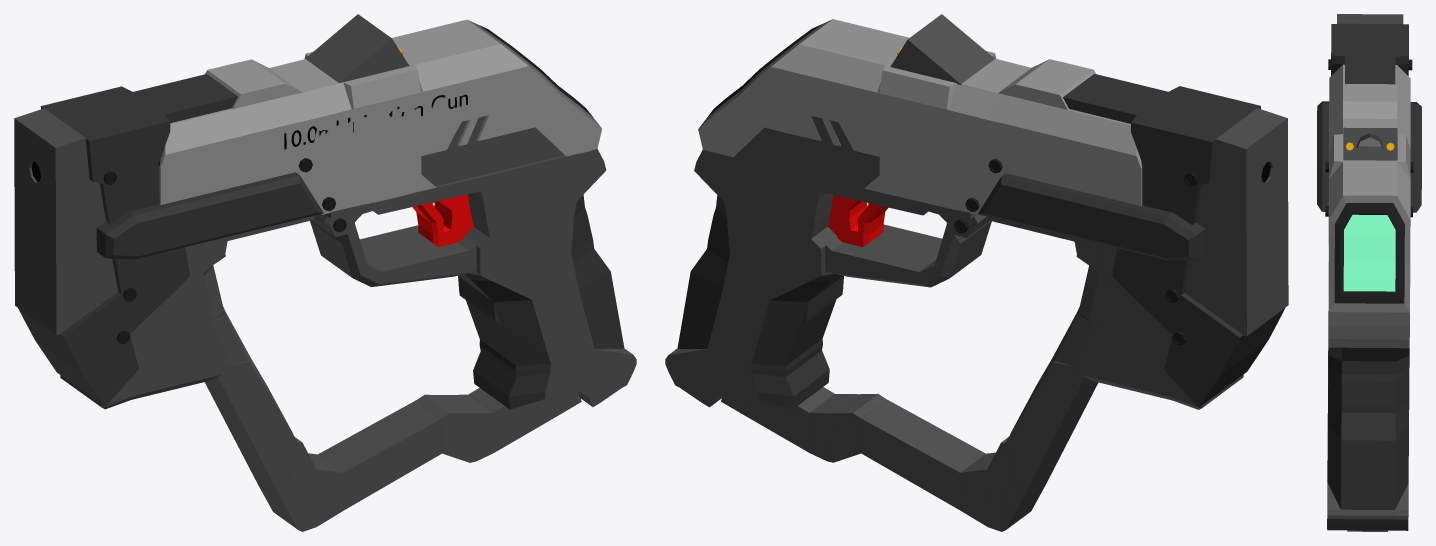
The model's file is InjectionGun.fbx.
3 views of the same model, side by side, from view 1: azimuth 30°, elevation 25°; view 2: azimuth 150°, elevation 25°; view 3: azimuth 270°, elevation 25° (orthographic). The views are drawn at different scales.
Visible parts, largest first — view 1: Body, CatridgeHolder, Trigger; view 2: Body, CatridgeHolder, Trigger; view 3: Body, CatridgeHolder.
Boxes of the visible parts, x1=… form: Body: x1=14, y1=19, x2=636, y2=531; CatridgeHolder: x1=305, y1=14, x2=409, y2=82; Trigger: x1=412, y1=194, x2=473, y2=247; Body: x1=665, y1=19, x2=1288, y2=531; CatridgeHolder: x1=890, y1=14, x2=994, y2=84; Trigger: x1=828, y1=195, x2=888, y2=246; Body: x1=1317, y1=14, x2=1421, y2=531; CatridgeHolder: x1=1343, y1=127, x2=1397, y2=160.
Bounding box in the file's own units: 1307 × 1029 × 258.
